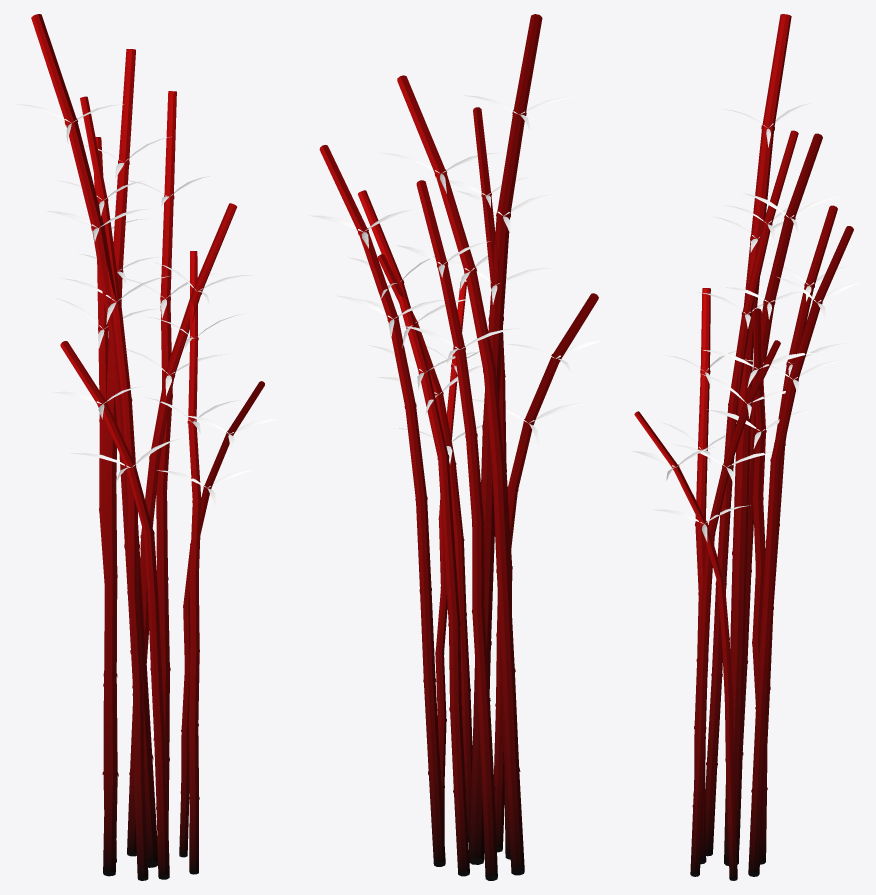
File: bamboo-clump.glb
3 renders of one model, left to right at view 1: azimuth 30°, elevation 25°; view 2: azimuth 150°, elevation 25°; view 3: azimuth 270°, elevation 25°, orthographic. The views are drawn at different scales.
Parts seen in each view (by area): view 1: bamboo-clump; view 2: bamboo-clump; view 3: bamboo-clump.
Boxes of the visible parts, x1=… form: bamboo-clump: x1=15, y1=14, x2=278, y2=880; bamboo-clump: x1=309, y1=14, x2=601, y2=880; bamboo-clump: x1=632, y1=14, x2=860, y2=880.
Bounding box in the file's own units: 1.46 × 5.4 × 1.39.
